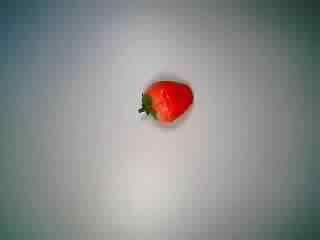strawberry: (136, 66, 198, 130)
